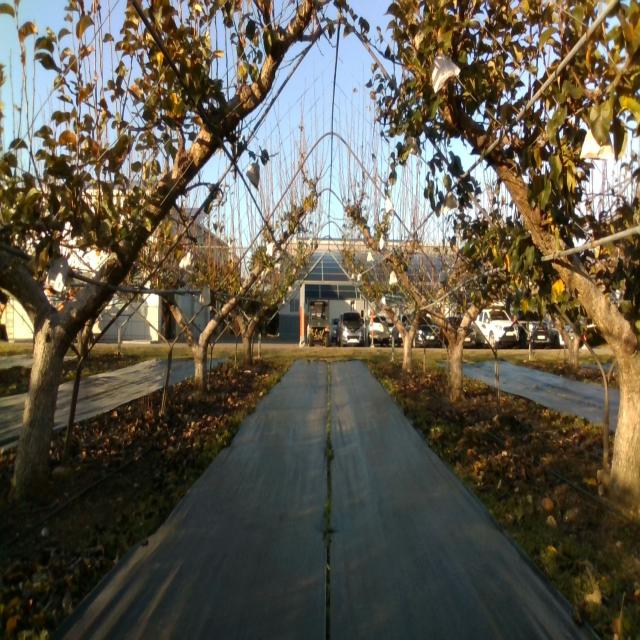pearbags: (432, 52, 461, 96), (580, 126, 614, 160), (42, 254, 69, 293), (245, 158, 261, 192), (179, 250, 195, 274), (444, 191, 458, 213)
